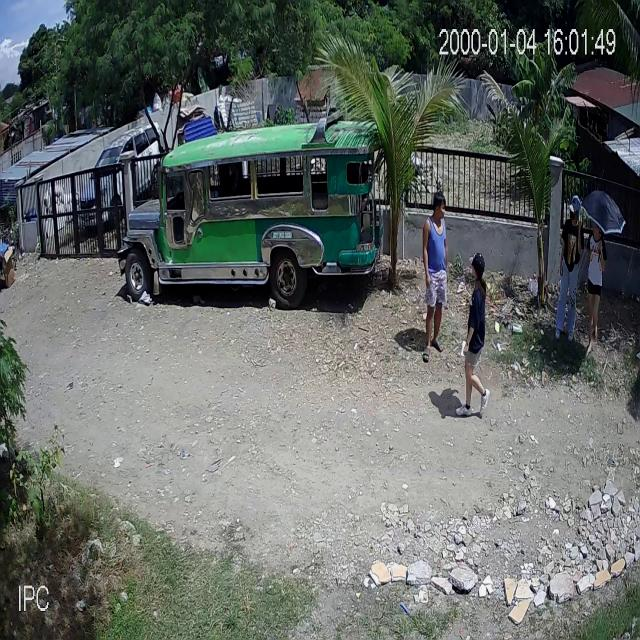standing: (419, 194, 451, 362), (554, 194, 586, 344), (584, 220, 607, 362)
walking: (454, 253, 494, 420)
